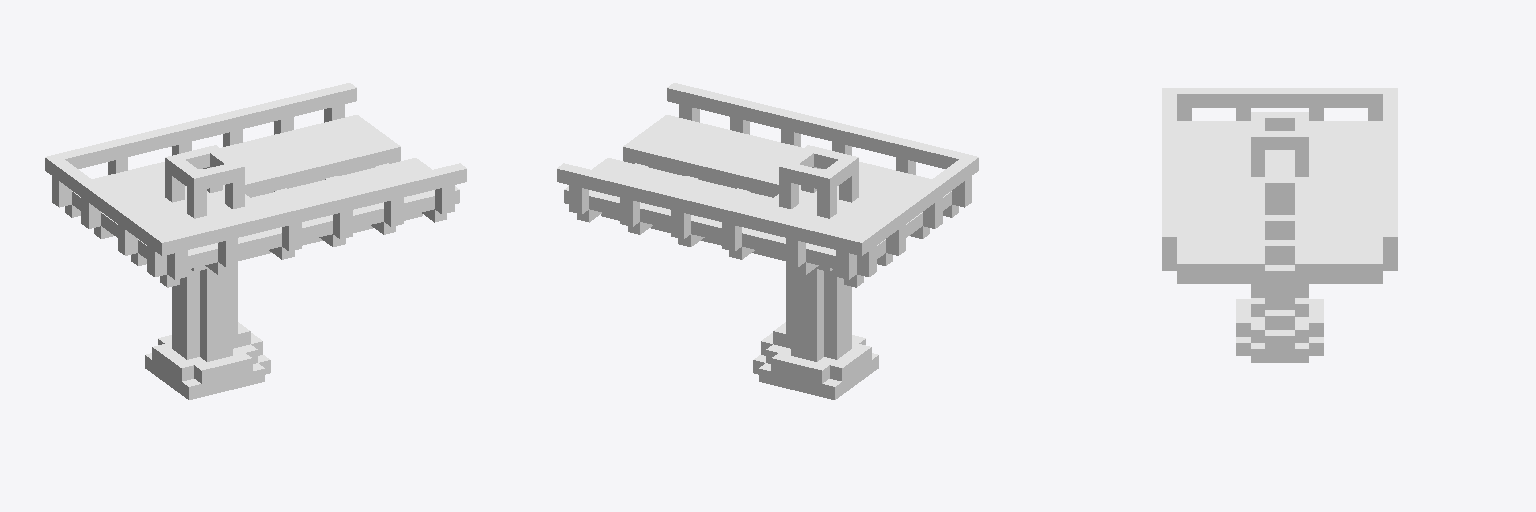
The model's file is bridgeEnd2.obj.
3 views of the same model, side by side, from view 1: azimuth 30°, elevation 25°; view 2: azimuth 150°, elevation 25°; view 3: azimuth 270°, elevation 25° (orthographic).
Parts seen in each view (by area): view 1: bridgeEnd2; view 2: bridgeEnd2; view 3: bridgeEnd2.
Boxes of the visible parts, box(x1,y1,x2,y2) form: bridgeEnd2: box(45, 83, 466, 399); bridgeEnd2: box(557, 83, 978, 399); bridgeEnd2: box(1162, 88, 1397, 362).
Bounding box in the file's own units: 2.4 × 1.6 × 1.6.